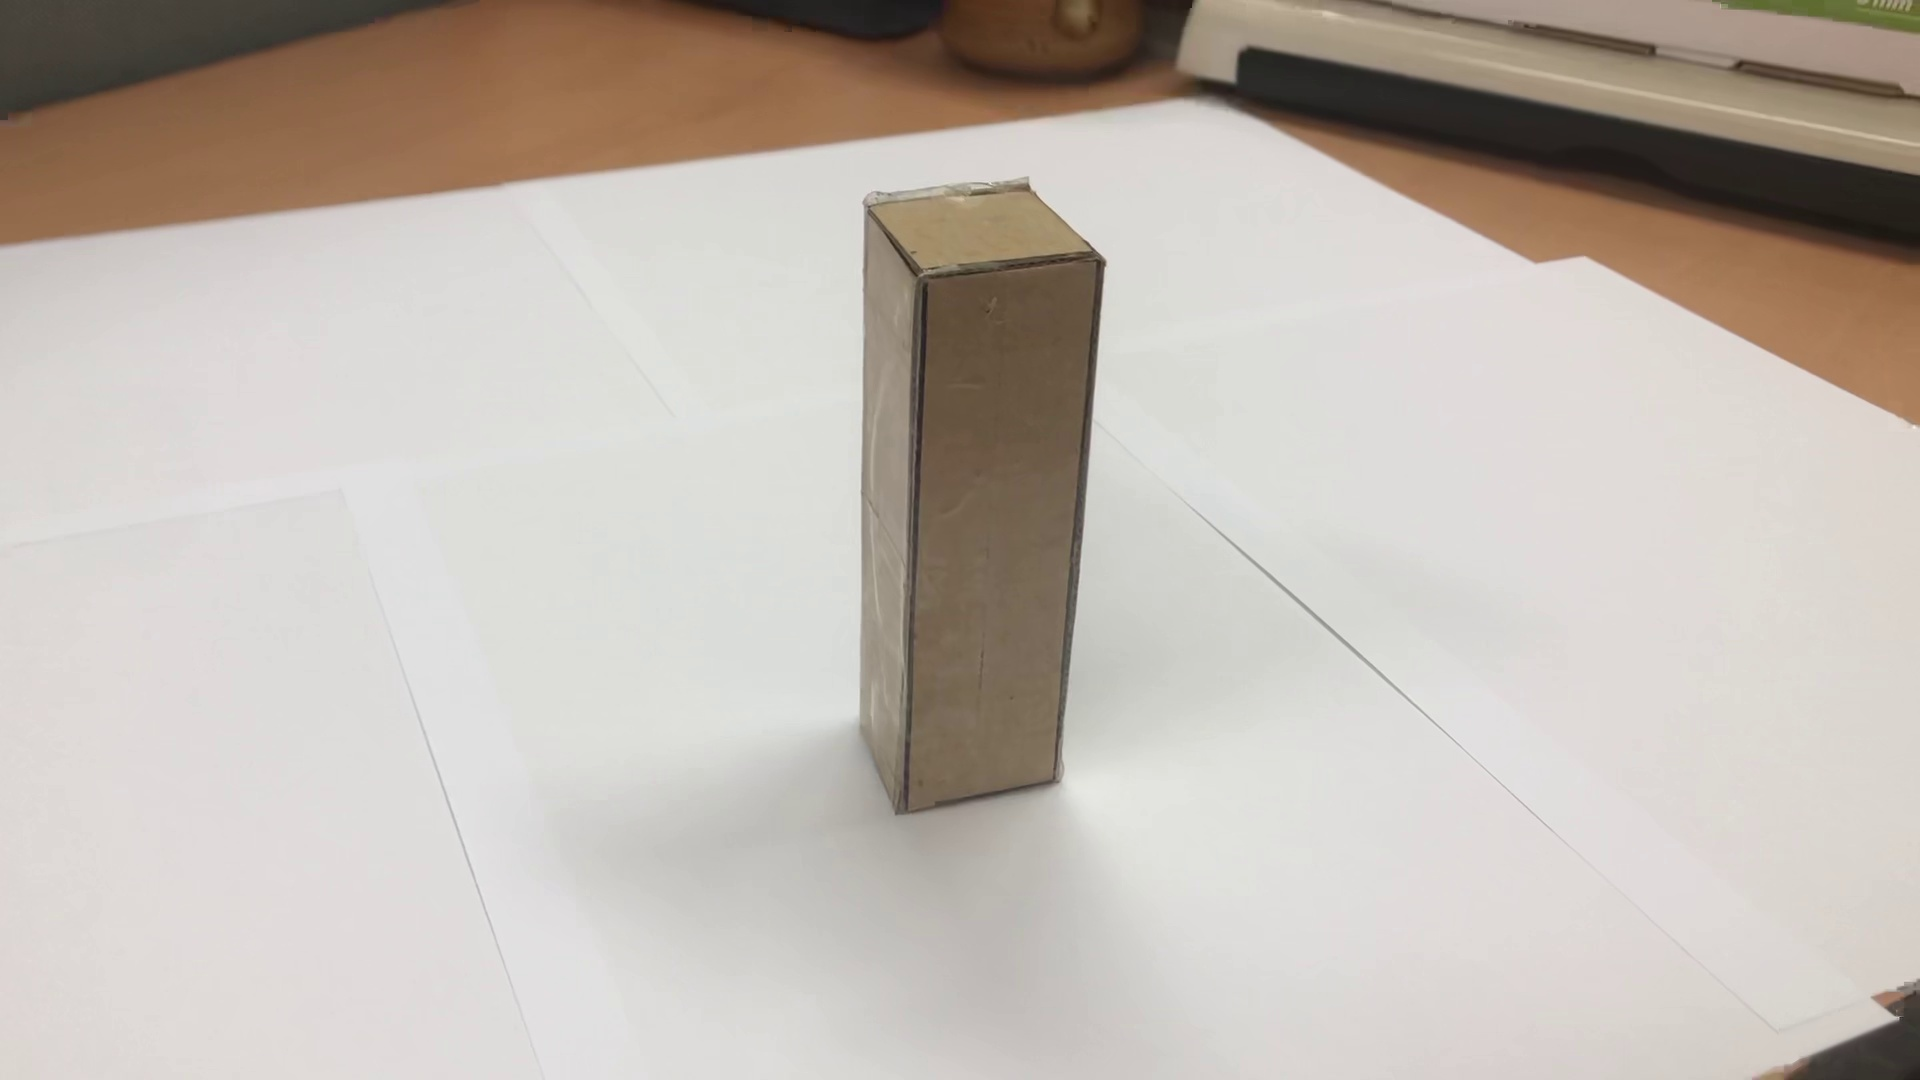box: (833, 156, 1118, 839)
